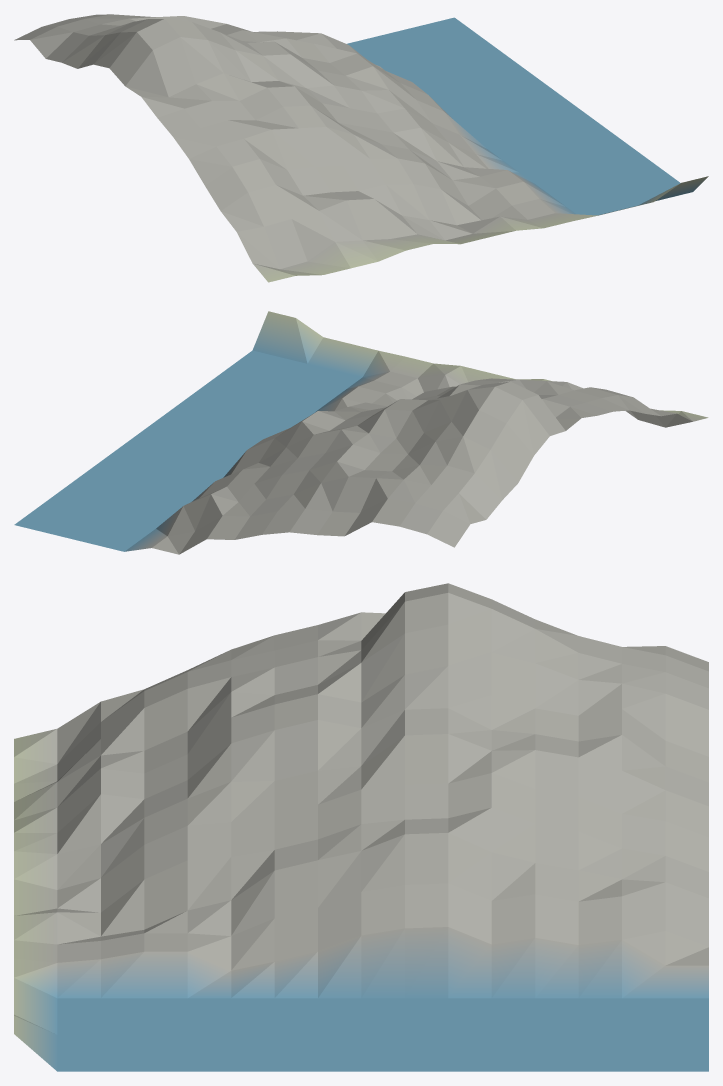
3 renders of one model, top to bottom at view 1: azimuth 30°, elevation 25°; view 2: azimuth 150°, elevation 25°; view 3: azimuth 270°, elevation 25°, orthographic. The views are drawn at different scales.
Size of the model in its own units: 32 by 11.28 by 32.
